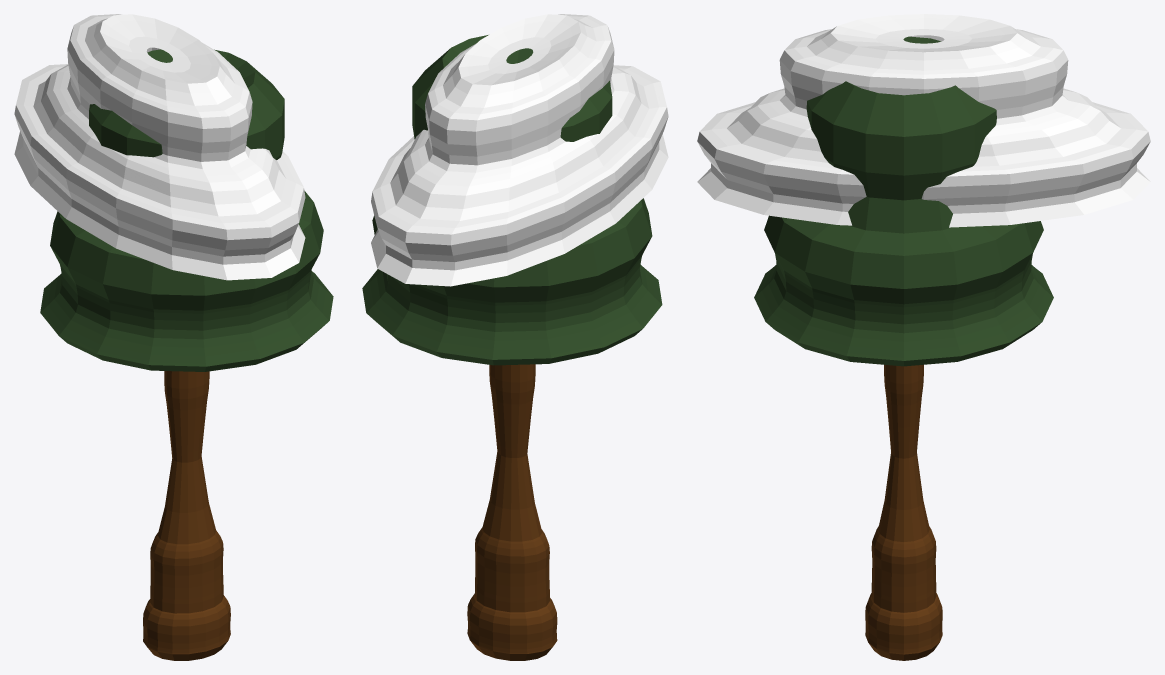
File: treewithsnowFBX.fbx
3 renders of one model, left to right at view 1: azimuth 30°, elevation 25°; view 2: azimuth 150°, elevation 25°; view 3: azimuth 270°, elevation 25°, orthographic. The views are drawn at different scales.
Parts seen in each view (by area): view 1: 開いた線形状の回転体, 開いた線形状の回転体_ncl1_1, 開いた線形状の回転体_ncl1_2; view 2: 開いた線形状の回転体, 開いた線形状の回転体_ncl1_1, 開いた線形状の回転体_ncl1_2; view 3: 開いた線形状の回転体, 開いた線形状の回転体_ncl1_1, 開いた線形状の回転体_ncl1_2.
Boxes of the visible parts, box(x1,y1,x2,y2) form: 開いた線形状の回転体: box(14, 14, 305, 280); 開いた線形状の回転体_ncl1_1: box(40, 49, 333, 371); 開いた線形状の回転体_ncl1_2: box(143, 371, 230, 660); 開いた線形状の回転体: box(371, 14, 668, 286); 開いた線形状の回転体_ncl1_1: box(362, 35, 662, 365); 開いた線形状の回転体_ncl1_2: box(467, 364, 557, 660); 開いた線形状の回転体: box(697, 14, 1150, 227); 開いた線形状の回転体_ncl1_1: box(754, 36, 1053, 366); 開いた線形状の回転体_ncl1_2: box(865, 364, 942, 660).
Bounding box in the file's own units: 150 × 333 × 227.
